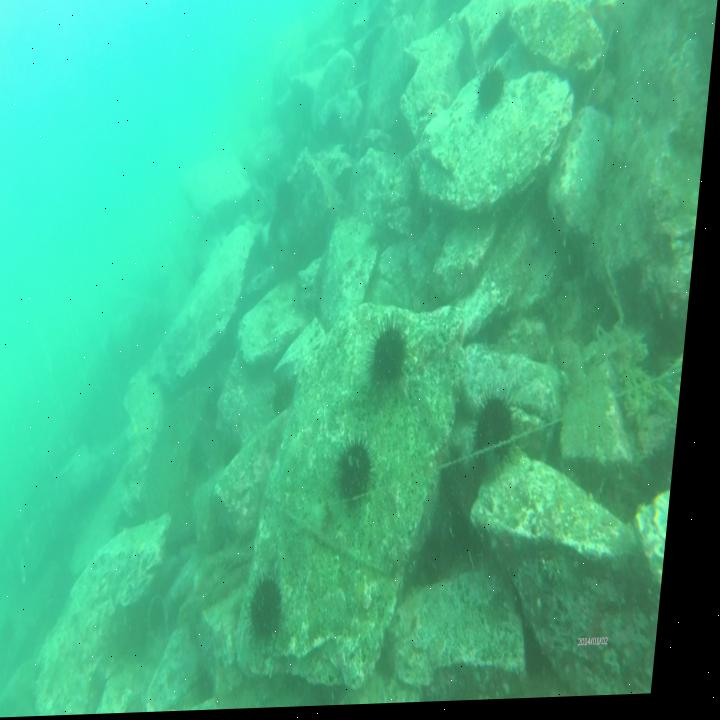echinus: (476, 390, 532, 483), (371, 311, 425, 402), (251, 567, 304, 649), (341, 432, 391, 511), (472, 62, 511, 127), (275, 376, 307, 425), (211, 380, 241, 427), (195, 442, 224, 485)
